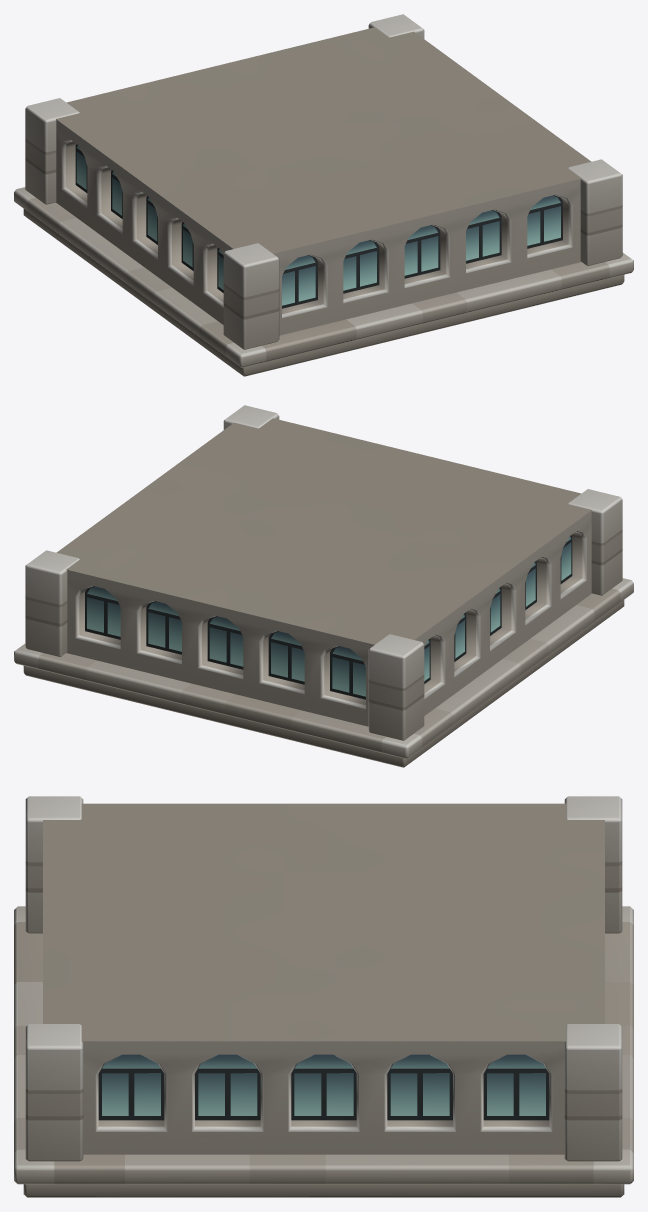
The model's file is office_building_type1_single_floor1_cream.fbx.
The picture shows the model from 3 angles, top to bottom: view 1: azimuth 30°, elevation 25°; view 2: azimuth 150°, elevation 25°; view 3: azimuth 270°, elevation 25°; orthographic projection. The views are drawn at different scales.
Visible parts, largest first — view 1: office_building_type1_single_floor1_cream; view 2: office_building_type1_single_floor1_cream; view 3: office_building_type1_single_floor1_cream.
Boxes of the visible parts, x1,y1,x2,y2 form: office_building_type1_single_floor1_cream: (14,14,633,376); office_building_type1_single_floor1_cream: (14,405,633,767); office_building_type1_single_floor1_cream: (14,796,633,1197).
Bounding box in the file's own units: 1610 × 434 × 1610.
